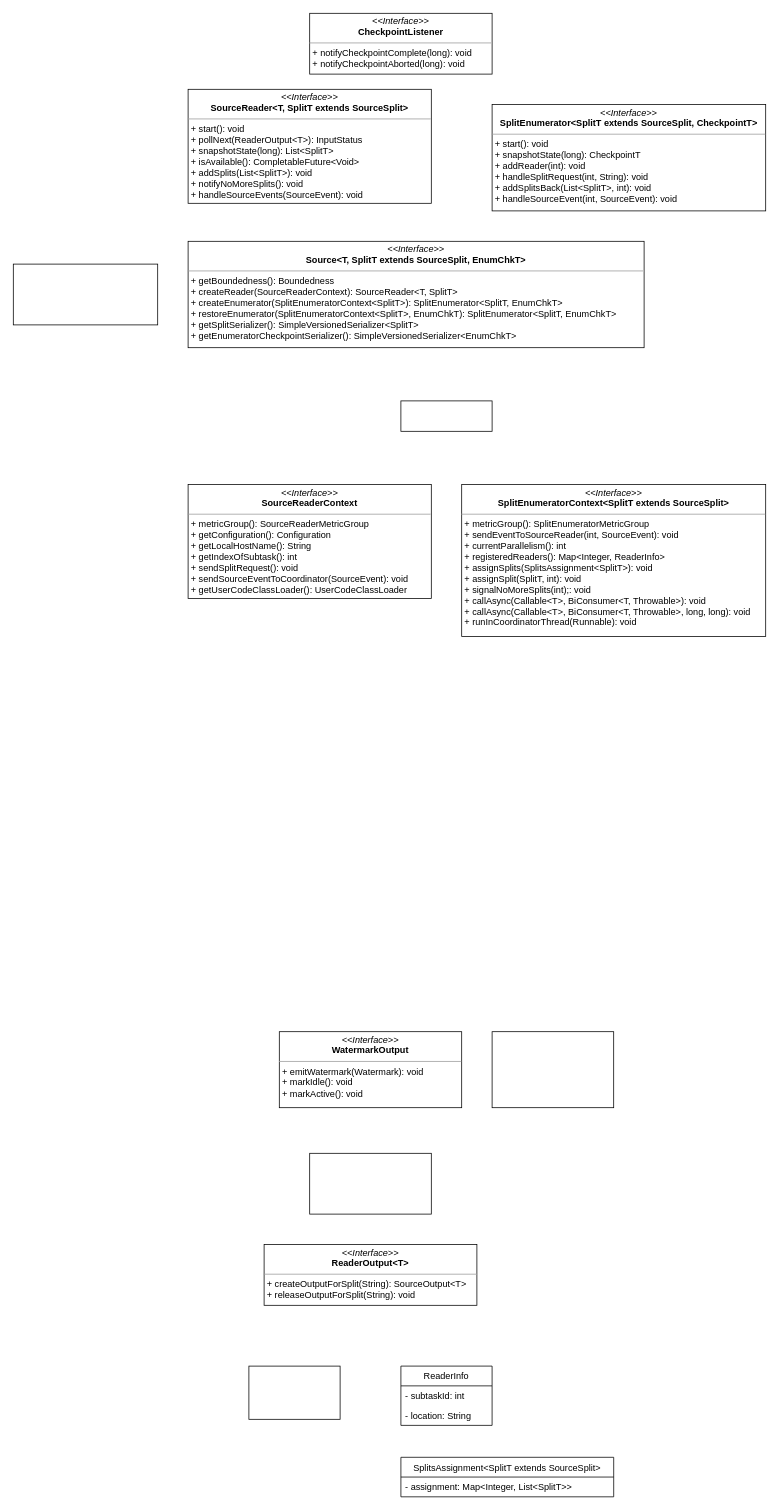
The diagram is 779 pixels wide and 1512 high, and some of its shapes have lost their labels. Each missing label, with the centre of its shape:
<<enum>> Boundedness BOUNDED CONTINUOUS_UNBOUNDED: (x=85, y=294)
<<enum>> InputStatus MORE_AVAILABLE NOTHING_AVAILABLE END_OF_INPUT: (x=552, y=1069)
<<Interface>> SourceEvent: (x=446, y=415)
<<Interface>> SourceOutput<T> + collect(T): void + collect(T, long): void: (x=370, y=1183)
<<Interface>> SourceSplit + splitId(): String: (x=294, y=1392)
